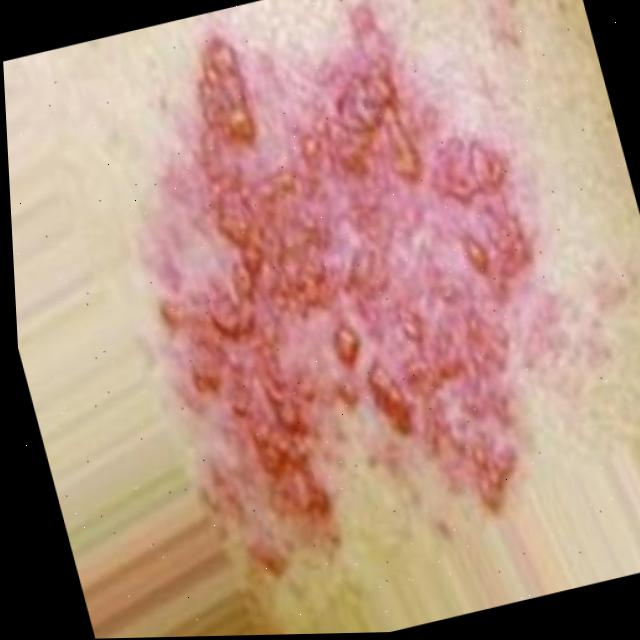Shingles: (93, 0, 569, 551)
